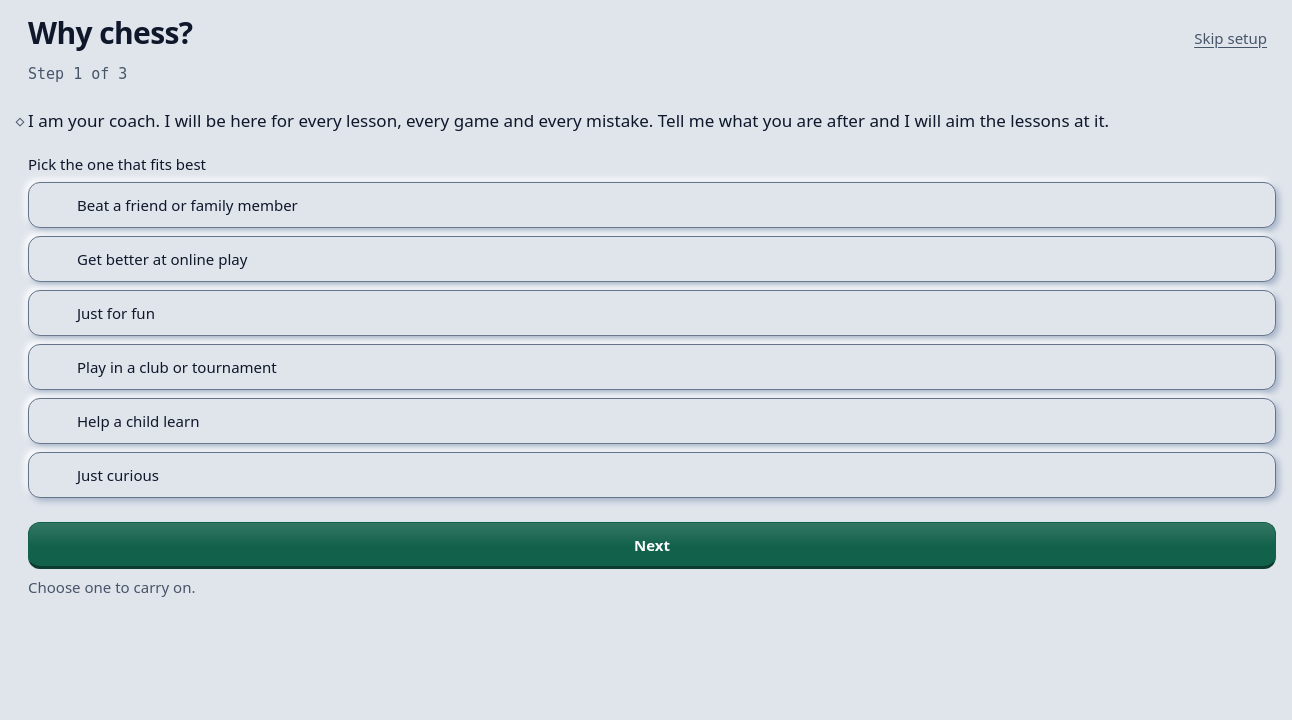
Test case: the answer is stored, and it is announced as chosen in more than a colour
Step 1. Click the button "Help a child learn" → (138, 421), box [28,398,1276,444]
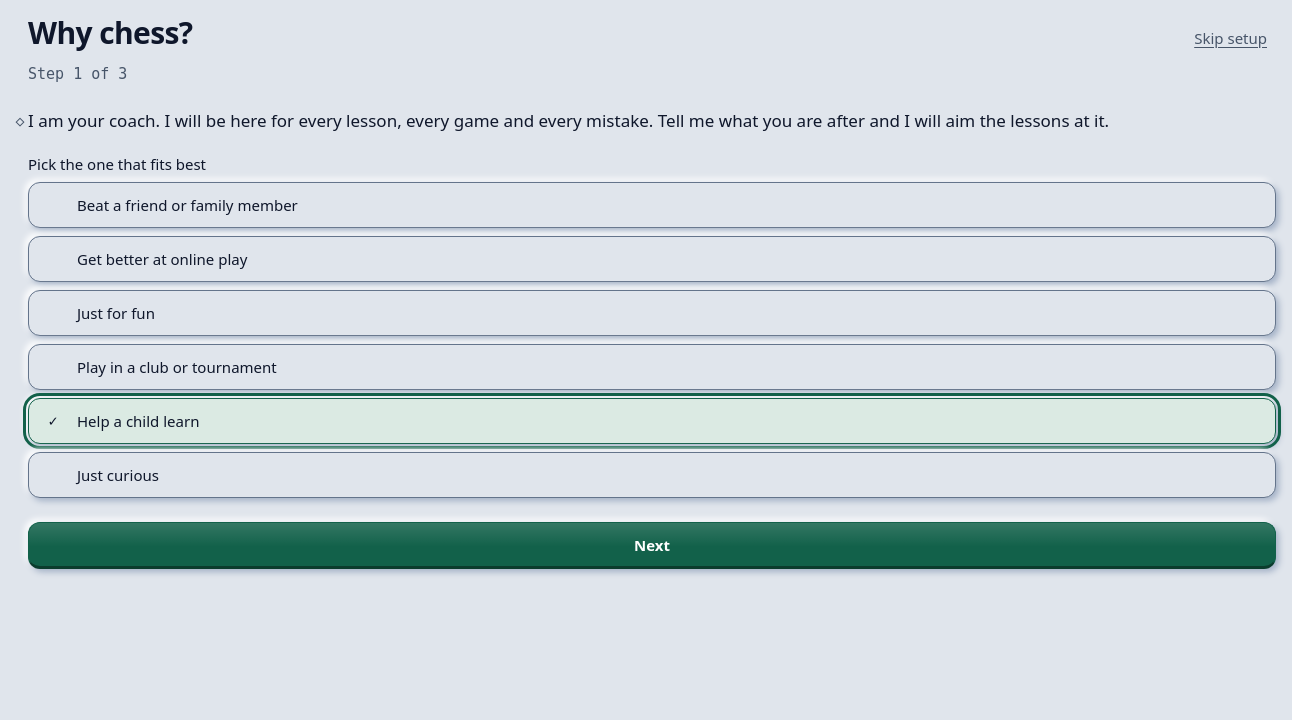
Expected: the button "Just curious" does not show "✓", [28,452,1276,498]
Now the button "✓ Help a child learn" is shown, box [28,398,1276,444]
